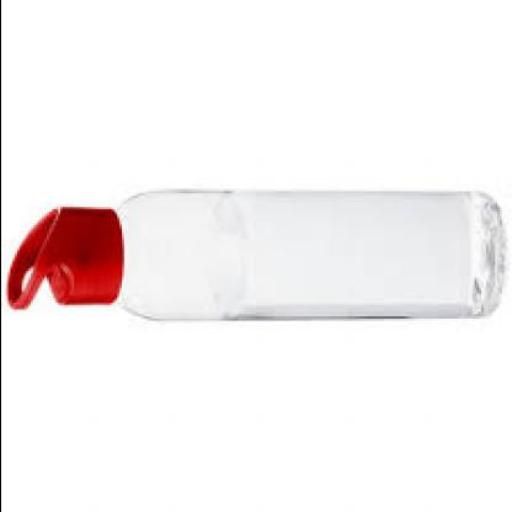plastic: (2, 189, 503, 321), (2, 207, 120, 312)
